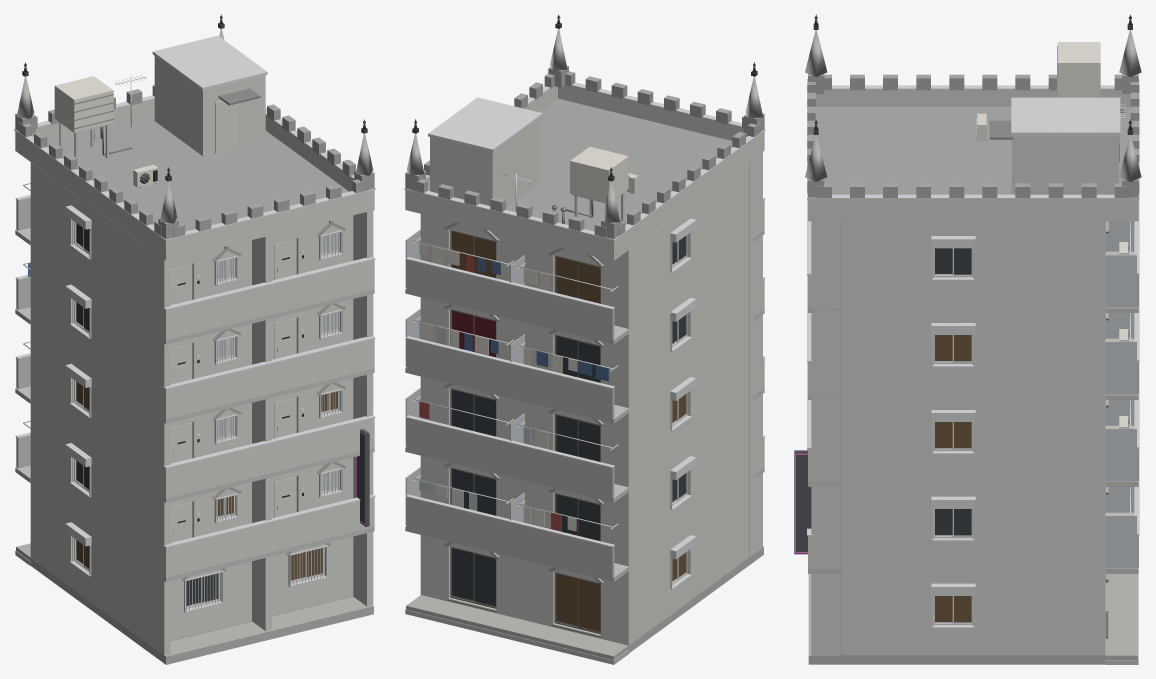
File: blk_skyline7.glb
3 renders of one model, left to right at view 1: azimuth 30°, elevation 25°; view 2: azimuth 150°, elevation 25°; view 3: azimuth 270°, elevation 25°, orthographic. The views are drawn at different scales.
Visible parts, largest first — view 1: blk_skyline7; view 2: blk_skyline7; view 3: blk_skyline7.
Part boxes in pixels (<box>): blk_skyline7: <box>14,14,375,664</box>; blk_skyline7: <box>404,14,765,664</box>; blk_skyline7: <box>794,14,1141,664</box>.
Bounding box in the file's own units: 8.46 × 18.1 × 10.5.
